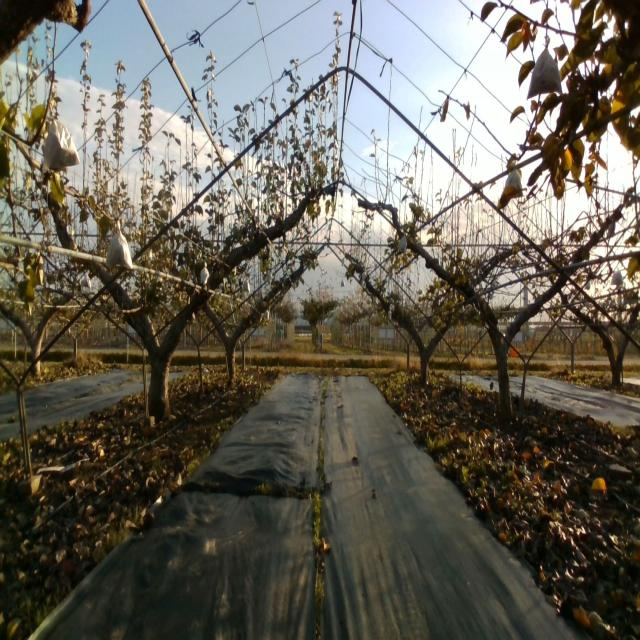pearbags: (526, 35, 563, 99), (42, 113, 80, 173), (105, 220, 133, 272), (504, 168, 522, 196), (396, 232, 408, 252)
